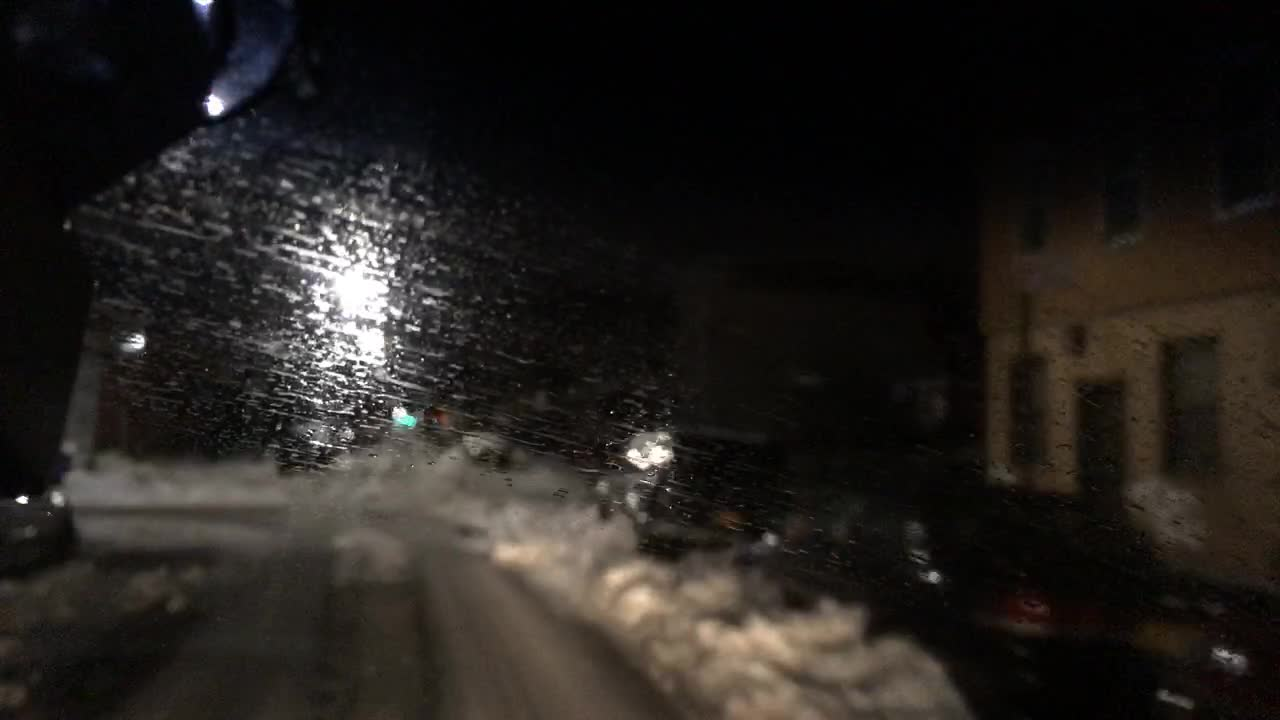car: (732, 471, 1161, 719), (589, 422, 793, 563), (1156, 570, 1279, 719), (0, 489, 76, 575), (273, 417, 336, 467), (315, 401, 376, 447), (457, 422, 518, 467), (418, 400, 469, 445)
